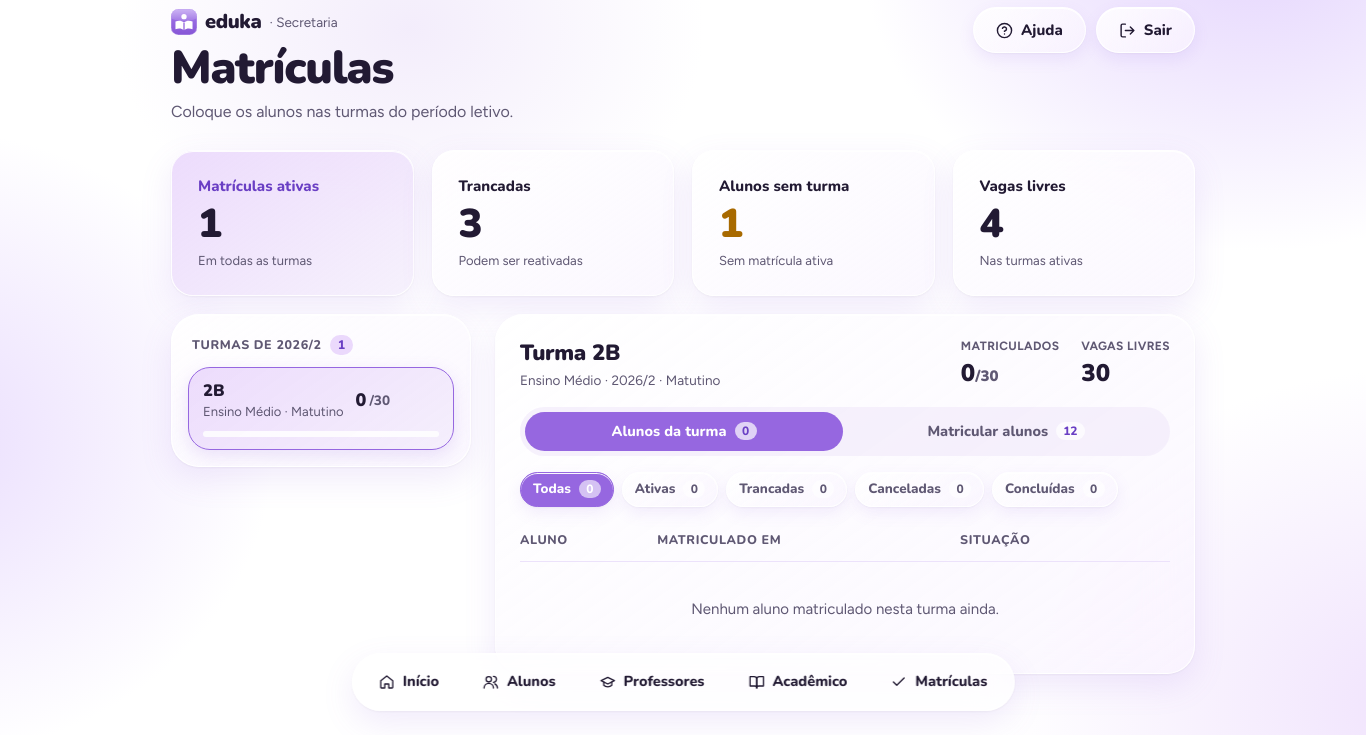
Scenario: Matriculas › a lista de matricular é paginada e a seleção vale em todas as páginas
The image size is (1366, 735).
Click the tab "Matricular alunos 12": [1006, 432] box [847,412,1165,451]
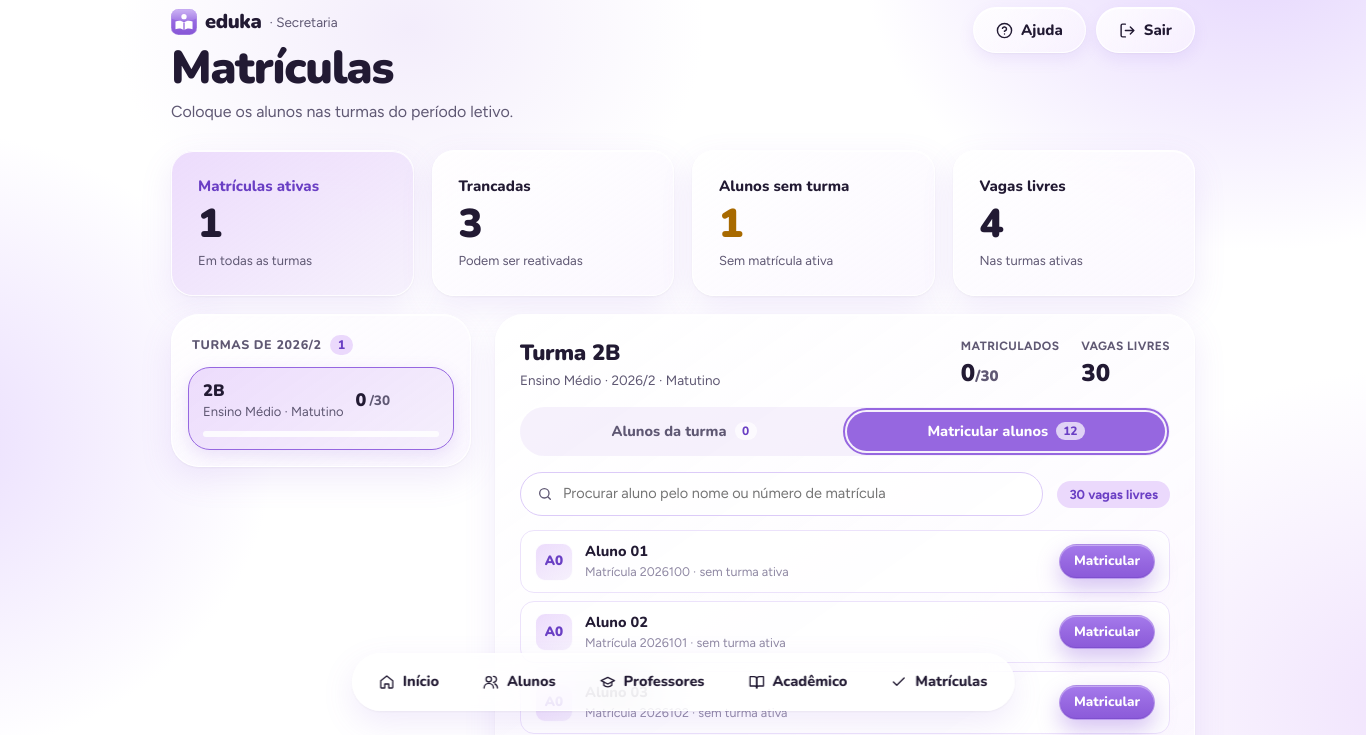
Result: the number of list items is 10
Click the button "Matricular" in the row of "Aluno 01": [1107, 562] box [1059,544,1155,579]
(page scrolled)
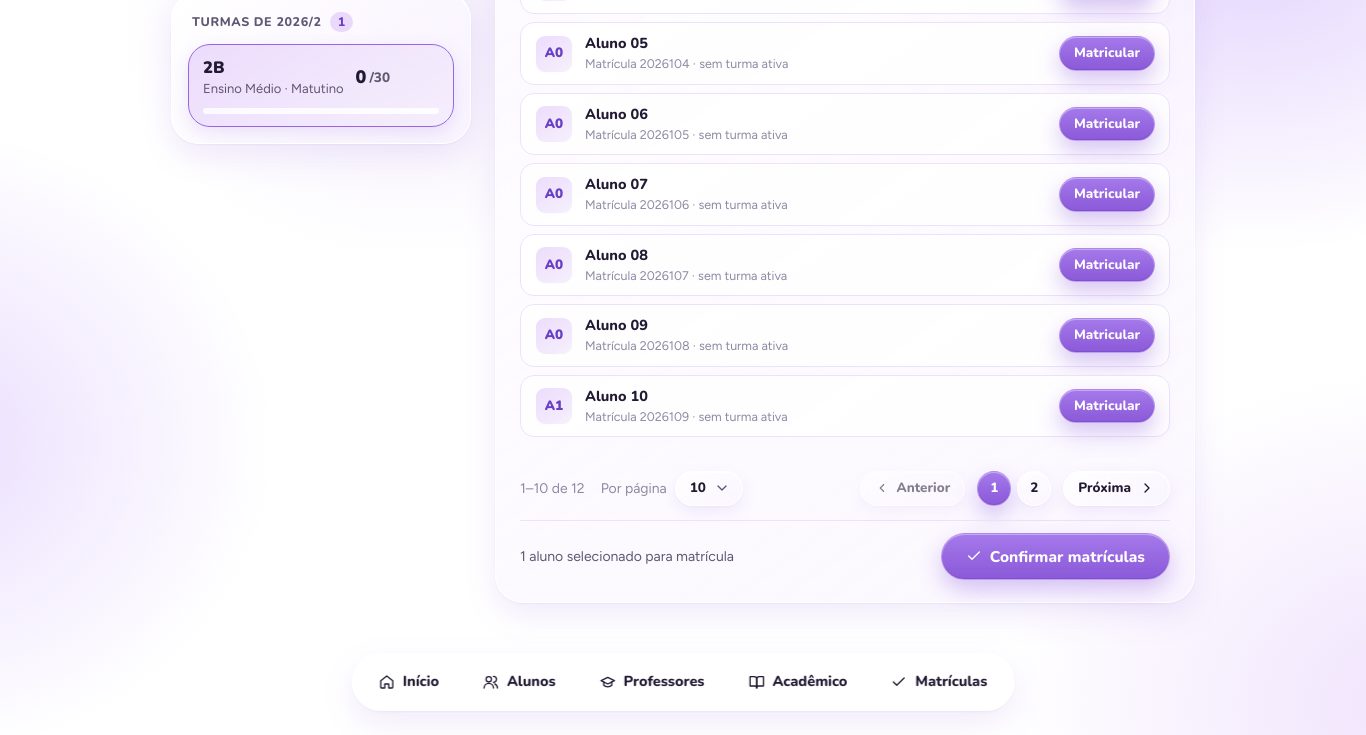
Click the button named "Página 2": [1034, 488] box [1017,471,1051,506]
(page scrolled)
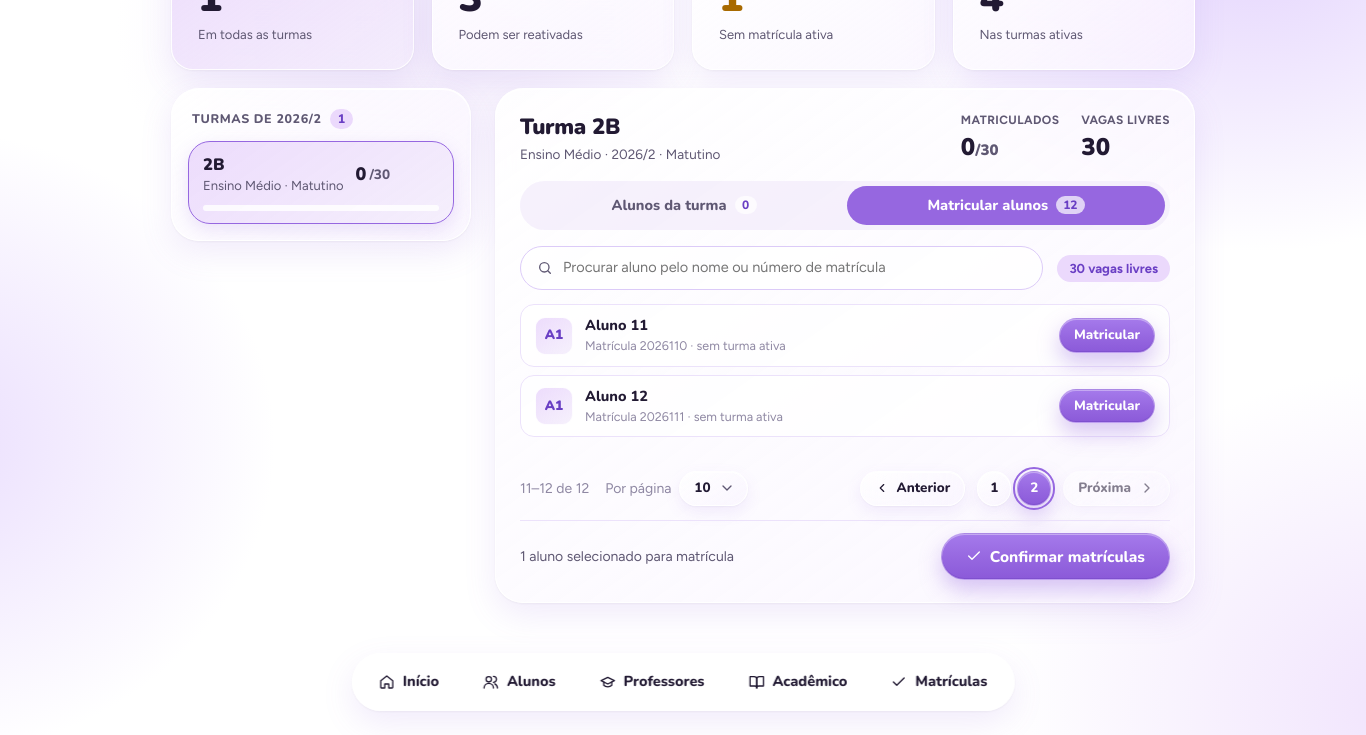
Result: the number of list items is 2 at [520,304,1170,367]; [520,375,1170,437]
Click the button "Matricular" in the row of "Aluno 11": [1107, 336] box [1059,318,1155,353]
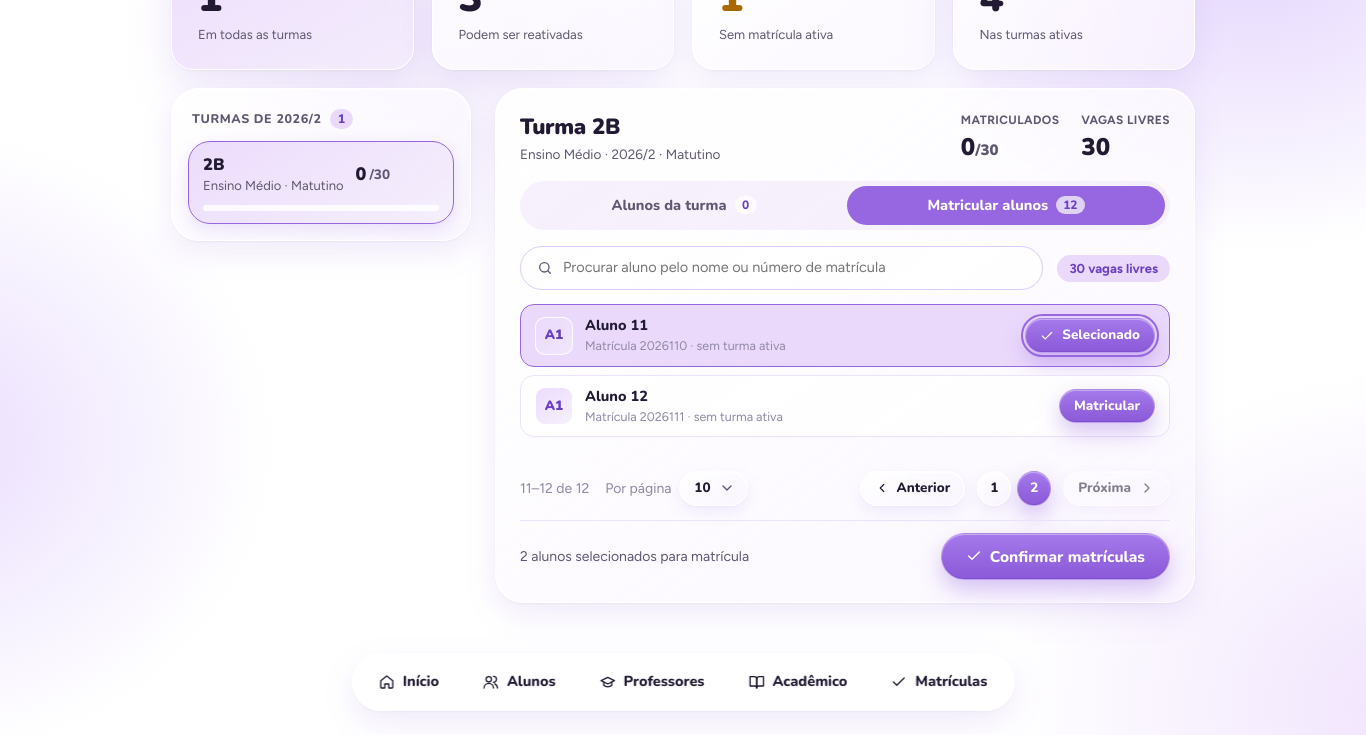
Result: the text "2 alunos selecionados para matrícula" is shown at [520,546,749,567]
